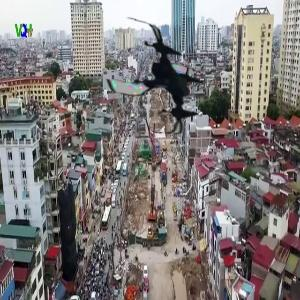drone: (95, 20, 213, 138)
